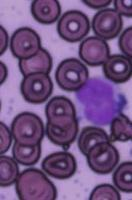M: (74, 75, 129, 127)
